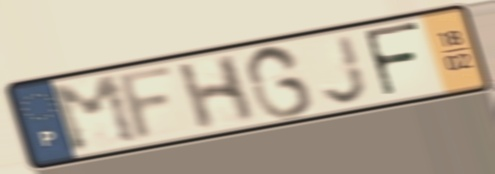F: (114, 61, 180, 146), (360, 19, 424, 101)
G: (242, 42, 318, 121)
H: (173, 50, 259, 134)
J: (319, 31, 373, 107)
M: (44, 71, 146, 156)
